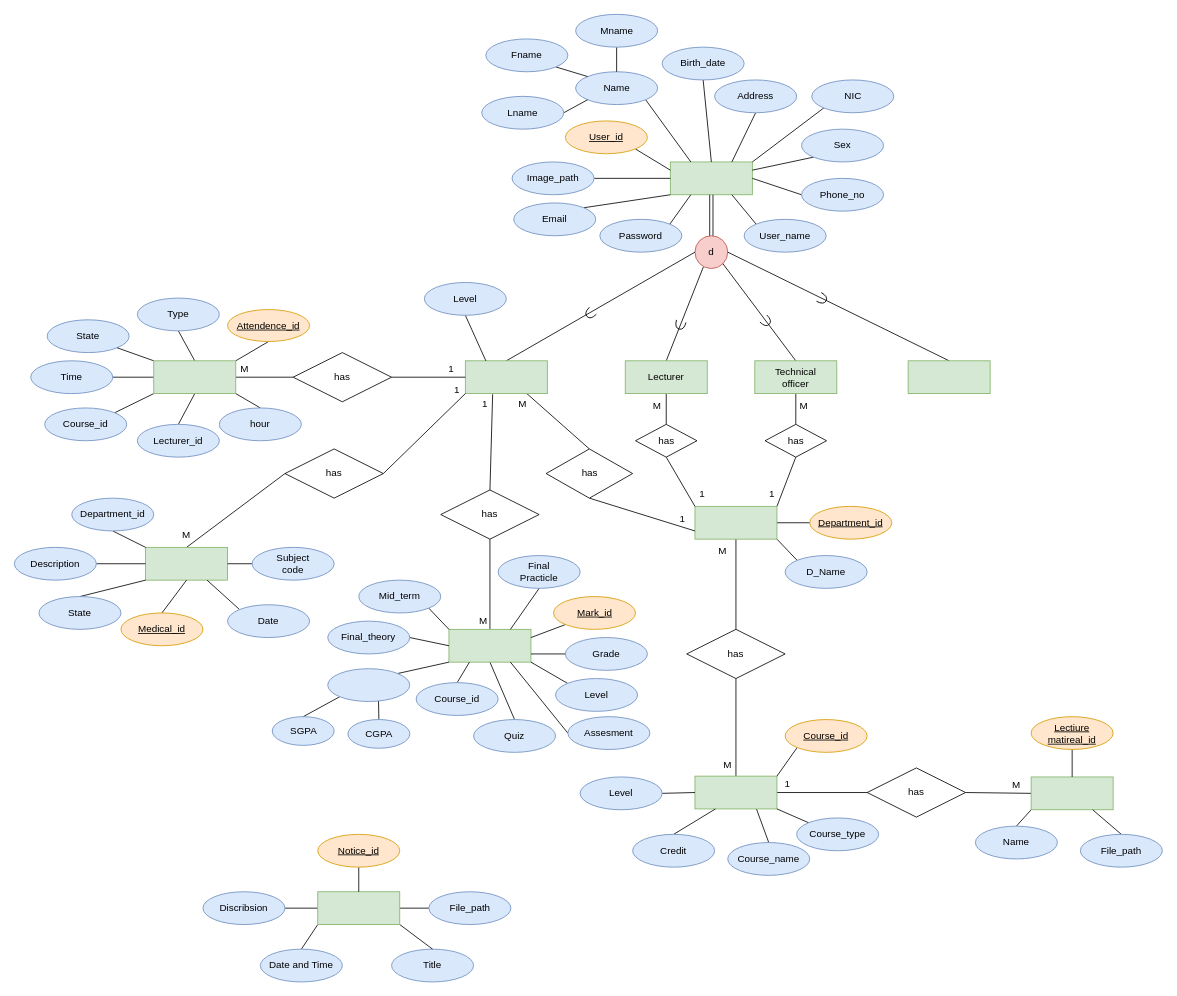
The diagram is 1177 pixels wide and 996 high, and some of its shapes have lost their labels. Each missing label, with the centre of its shape:
Admin: the point at 948,377
Attendence: the point at 194,377
Course: the point at 735,792
Department: the point at 735,522
GPA: the point at 368,685
Lectiure matireal: the point at 1071,793
Mark: the point at 489,645
Medical: the point at 186,563
Notice: the point at 358,908
Student: the point at 506,377
User: the point at 711,178
